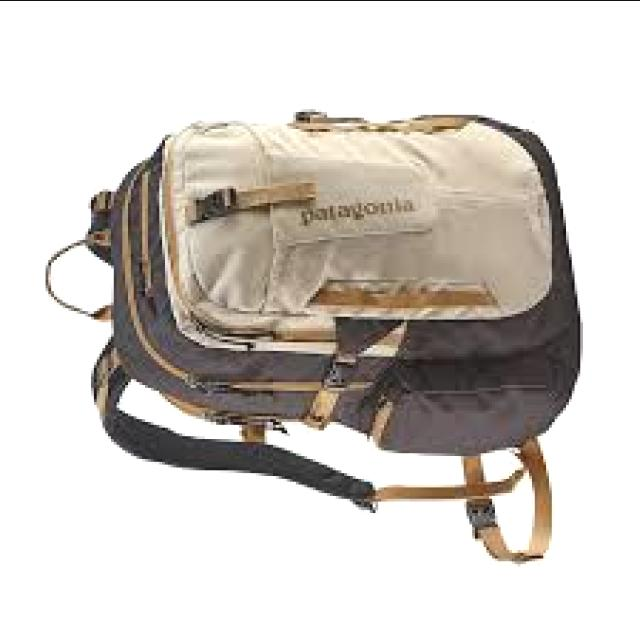backpack: (44, 112, 582, 567)
